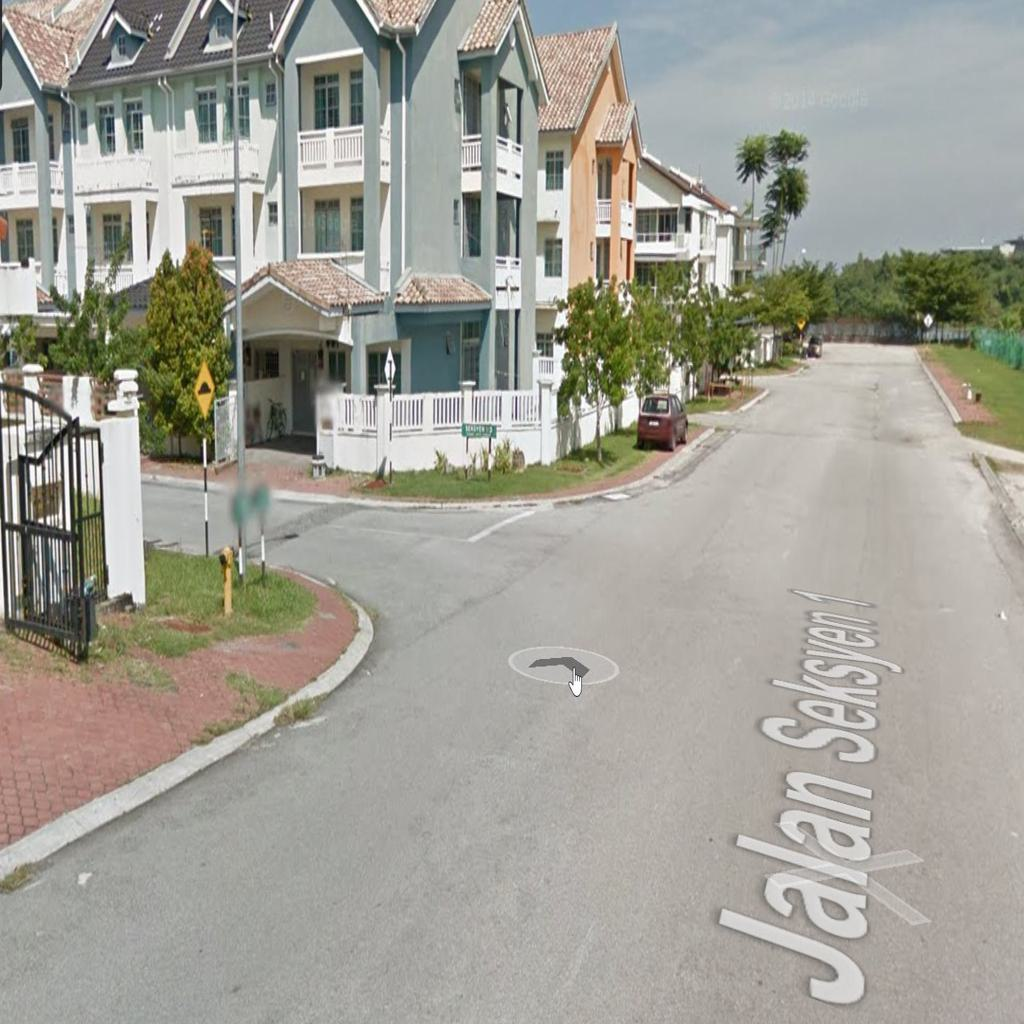Junction: (225, 457, 642, 663)
